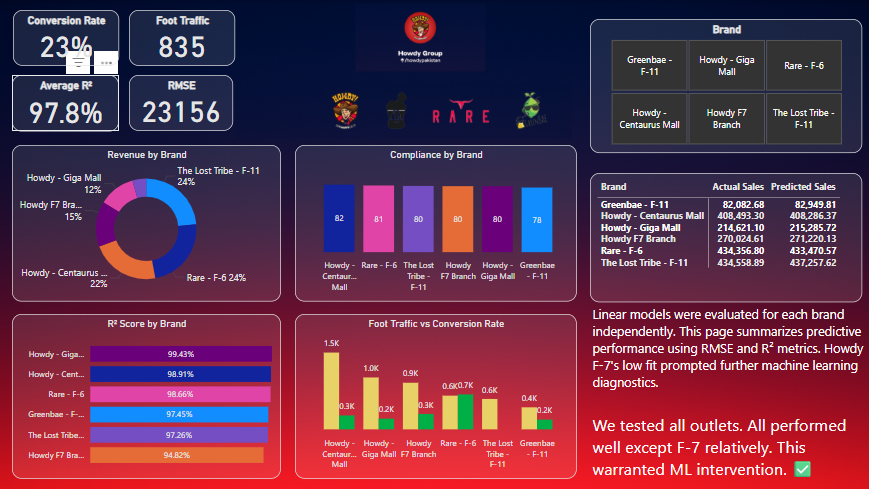

Layout of this report page (visuals, bound fields, positions):
{"tool":"powerbi","page":{"name":" Segmented Regression Model Comparison","canvas":[1280,720],"ordinal":0},"visuals":[{"type":"card","title":"Average R²","fields":{"Values":["Avg(AllOutletsModel.R2_Score)"]},"box":[21.7,109.8,156.8,83.2],"z":0},{"type":"card","title":"RMSE","fields":{"Values":["Avg(AllOutletsModel.RMSE)"]},"box":[194,110.2,152.8,82.3],"z":1000},{"type":"donutChart","title":"Revenue by Brand","fields":{"Category":["AllOutletsModel.Brand"],"Y":["Sum(AllOutletsModel.Total_Sales_PKR)"]},"box":[21.7,213.5,394.5,230.4],"z":2000},{"type":"columnChart","title":"Compliance by Brand","fields":{"Y":["Avg(AllOutletsModel.Compliance_Score)"],"Category":["AllOutletsModel.Brand"],"Series":["AllOutletsModel.Outlet_ID"]},"box":[437.9,213.5,413.8,230.4],"z":3000},{"type":"pivotTable","fields":{"Rows":["AllOutletsModel.Brand"],"Values":["Avg(AllOutletsModel.Total_Sales_PKR)","Avg(AllOutletsModel.Predicted_Sales_LR)"]},"box":[871.4,254.3,400,190],"z":4000},{"type":"barChart","title":"R² Score by Brand","fields":{"Category":["AllOutletsModel.Brand"],"Y":["Avg(AllOutletsModel.R2_Score)"],"Series":["AllOutletsModel.Outlet_ID"]},"box":[21.7,460.9,394.5,242.5],"z":5000},{"type":"clusteredColumnChart","title":"Foot Traffic vs Conversion Rate","fields":{"Category":["AllOutletsModel.Brand"],"Y":["Avg(AllOutletsModel.Foot_Traffic_Adjusted)","Avg(AllOutletsModel.Conversion_Rate)"]},"box":[437.9,460.9,413.8,242.5],"z":6000},{"type":"slicer","title":"Brand","fields":{"Values":["AllOutletsModel.Brand"]},"box":[871.7,28.3,400,196.7],"z":7000},{"type":"textbox","box":[869.9,443.8,410,276.2],"z":8000},{"type":"image","box":[347.2,111.1,502.8,101.4],"z":9000},{"type":"image","box":[409,0,427,110],"z":10000},{"type":"card","title":"Conversion Rate","fields":{"Values":["Avg(AllOutletsModel.Simulated_Conversion_Rate)"]},"box":[23.5,14.7,155.8,82.3],"z":11000},{"type":"card","title":"Foot Traffic","fields":{"Values":["Avg(AllOutletsModel.Foot_Traffic_Adjusted)"]},"box":[194,14.7,155.8,82.3],"z":12000}]}

Visuals, with their boxes in screenshot pixels (x1, y1, x2, y2), scaled from the page's 1280x720 canvas onto the 869x489 screenshot:
"Average R²" card: <region>15, 75, 121, 131</region>
"RMSE" card: <region>132, 75, 235, 131</region>
"Revenue by Brand" donutChart: <region>15, 145, 283, 301</region>
"Compliance by Brand" columnChart: <region>297, 145, 578, 301</region>
pivotTable - AllOutletsModel.Brand x Avg(AllOutletsModel.Total_Sales_PKR): <region>592, 173, 863, 302</region>
"R² Score by Brand" barChart: <region>15, 313, 283, 478</region>
"Foot Traffic vs Conversion Rate" clusteredColumnChart: <region>297, 313, 578, 478</region>
"Brand" slicer: <region>592, 19, 863, 153</region>
textbox: <region>591, 301, 868, 488</region>
image: <region>236, 75, 577, 144</region>
image: <region>278, 0, 568, 75</region>
"Conversion Rate" card: <region>16, 10, 122, 66</region>
"Foot Traffic" card: <region>132, 10, 237, 66</region>
